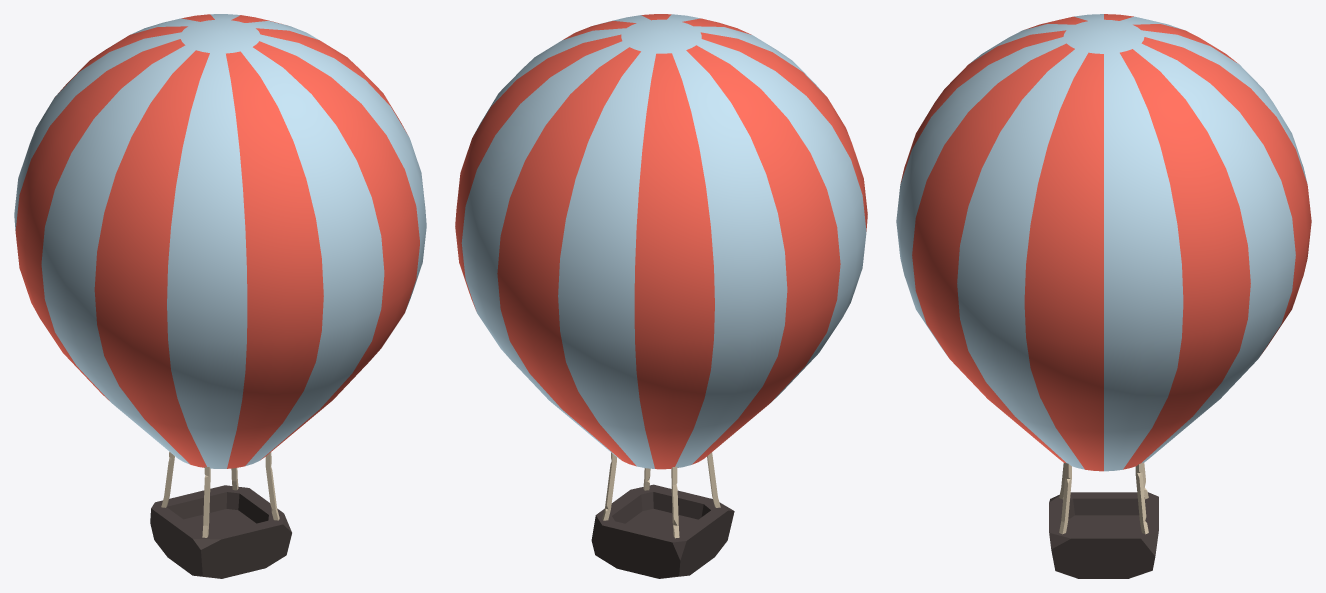
Rendered from Balloon.fbx.
3 renders of one model, left to right at view 1: azimuth 30°, elevation 25°; view 2: azimuth 150°, elevation 25°; view 3: azimuth 270°, elevation 25°, orthographic.
Visible parts, largest first — view 1: Balloon; view 2: Balloon; view 3: Balloon.
Part boxes in pixels (<box>): Balloon: <box>14,14,426,578</box>; Balloon: <box>455,14,867,578</box>; Balloon: <box>896,14,1311,578</box>.
Size of the model in its own units: 0.623 by 0.8702 by 0.623.
